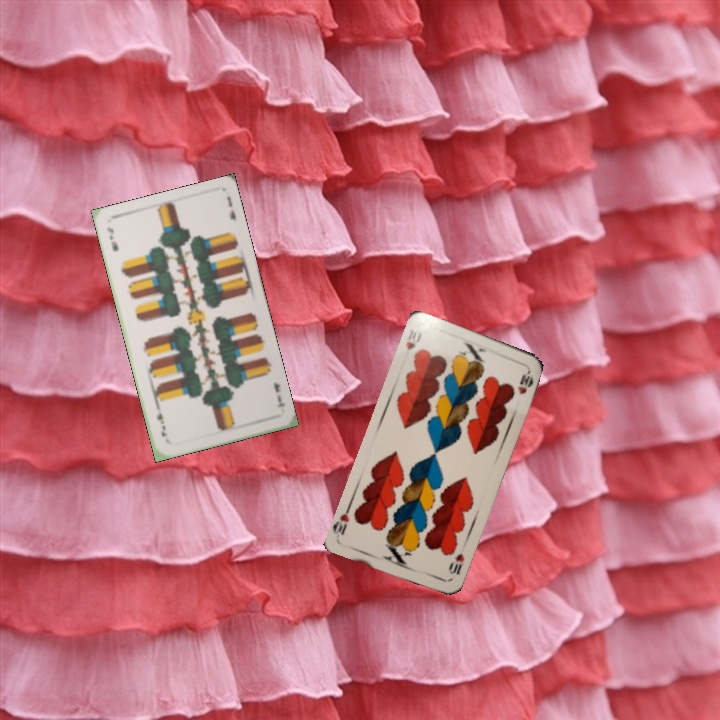E7: (270, 378, 288, 410), (103, 223, 121, 254)
H10: (444, 549, 467, 577), (402, 324, 424, 353)
